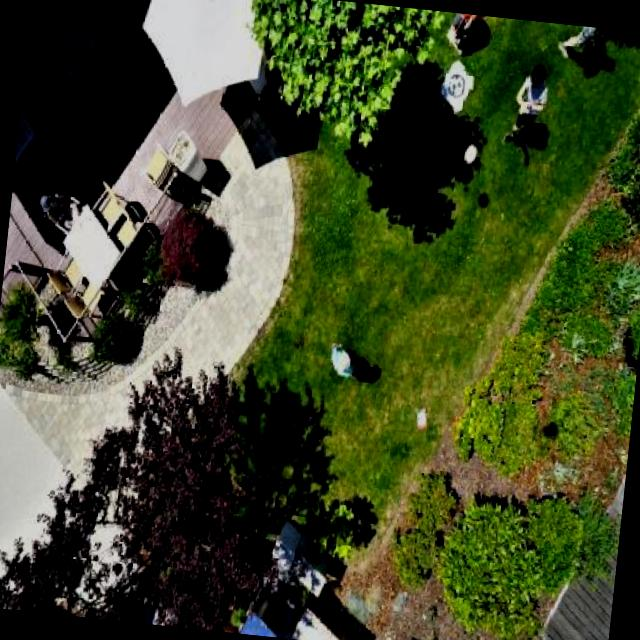Person: (496, 56, 564, 157), (318, 335, 366, 390)
